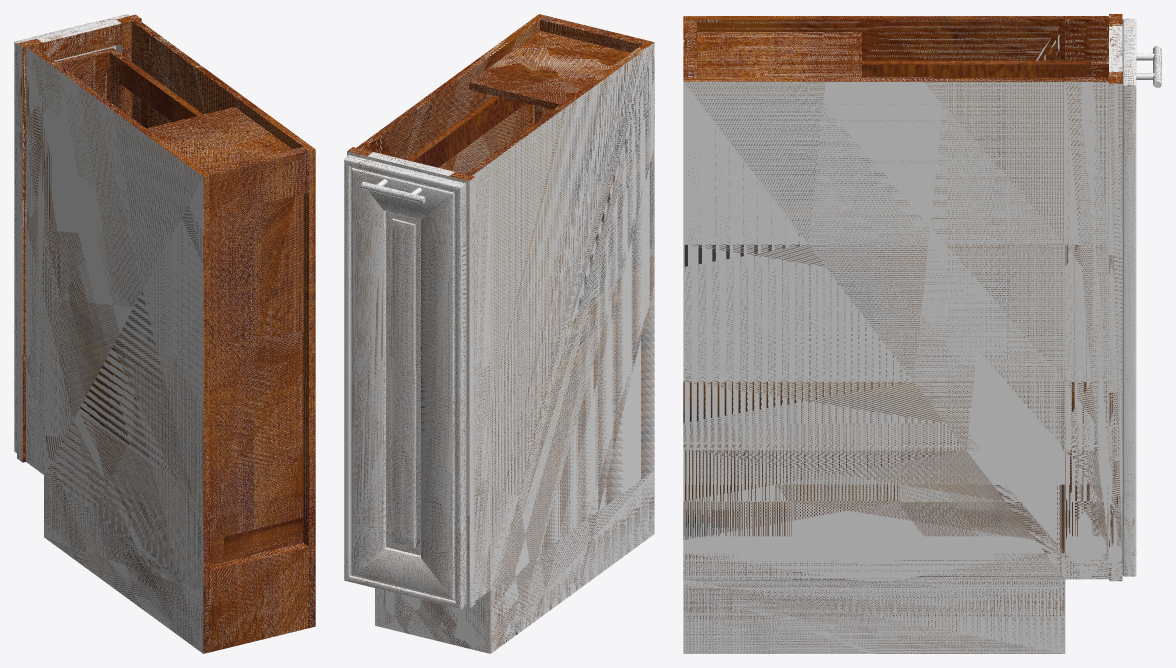
3 views of the same model, side by side, from view 1: azimuth 30°, elevation 25°; view 2: azimuth 150°, elevation 25°; view 3: azimuth 270°, elevation 25° (orthographic). The views are drawn at different scales.
Visible parts, largest first — view 1: mesh7_mesh7-geometry, mesh4_mesh4-geometry, mesh8_mesh8-geometry, mesh10_mesh10-geometry, mesh12_mesh12-geometry, mesh6_mesh6-geometry, mesh14_mesh14-geometry, mesh3_mesh3-geometry, mesh2_mesh2-geometry, mesh15_mesh15-geometry, mesh5_mesh5-geometry, mesh34_mesh34-geometry (+4 smaller); view 2: mesh7_mesh7-geometry, mesh29_mesh29-geometry, mesh28_mesh28-geometry, mesh8_mesh8-geometry, mesh10_mesh10-geometry, mesh14_mesh14-geometry, mesh6_mesh6-geometry, mesh2_mesh2-geometry, mesh13_mesh13-geometry, mesh22_mesh22-geometry, mesh23_mesh23-geometry, mesh24_mesh24-geometry (+6 smaller); view 3: mesh10_mesh10-geometry, mesh11_mesh11-geometry, mesh9_mesh9-geometry, mesh7_mesh7-geometry, mesh14_mesh14-geometry, mesh2_mesh2-geometry, mesh28_mesh28-geometry, mesh15_mesh15-geometry, mesh6_mesh6-geometry, mesh21_mesh21-geometry, mesh24_mesh24-geometry, mesh3_mesh3-geometry.
Part boxes in pixels (x1,y1,x2,y2): mesh7_mesh7-geometry: (44,58,209,591); mesh4_mesh4-geometry: (210,194,303,565); mesh8_mesh8-geometry: (44,475,209,653); mesh10_mesh10-geometry: (150,33,315,565); mesh12_mesh12-geometry: (210,542,308,652); mesh6_mesh6-geometry: (26,45,50,474); mesh14_mesh14-geometry: (146,107,292,170); mesh3_mesh3-geometry: (205,147,308,216); mesh2_mesh2-geometry: (17,14,141,462); mesh15_mesh15-geometry: (119,57,203,121); mesh5_mesh5-geometry: (37,19,121,60); mesh34_mesh34-geometry: (224,517,303,561); mesh7_mesh7-geometry: (484,40,654,589); mesh29_mesh29-geometry: (402,233,466,549); mesh28_mesh28-geometry: (344,219,403,534); mesh8_mesh8-geometry: (484,470,654,653); mesh10_mesh10-geometry: (375,14,545,174); mesh14_mesh14-geometry: (469,30,630,109); mesh6_mesh6-geometry: (465,161,490,600); mesh2_mesh2-geometry: (347,147,475,608); mesh13_mesh13-geometry: (381,590,483,652); mesh22_mesh22-geometry: (401,169,466,247); mesh23_mesh23-geometry: (401,535,466,609); mesh24_mesh24-geometry: (344,521,404,594); mesh10_mesh10-geometry: (683,77,1065,579); mesh11_mesh11-geometry: (683,579,1065,653); mesh9_mesh9-geometry: (1065,77,1108,579); mesh7_mesh7-geometry: (683,16,1065,60); mesh14_mesh14-geometry: (697,32,861,77); mesh2_mesh2-geometry: (1109,14,1122,581); mesh28_mesh28-geometry: (1122,155,1136,506); mesh15_mesh15-geometry: (862,60,1090,77); mesh6_mesh6-geometry: (1065,16,1108,60); mesh21_mesh21-geometry: (1122,51,1136,155); mesh24_mesh24-geometry: (1122,506,1136,576); mesh3_mesh3-geometry: (683,19,696,77).
Size of the model in its own units: 0.2036 by 0.7805 by 0.591.
